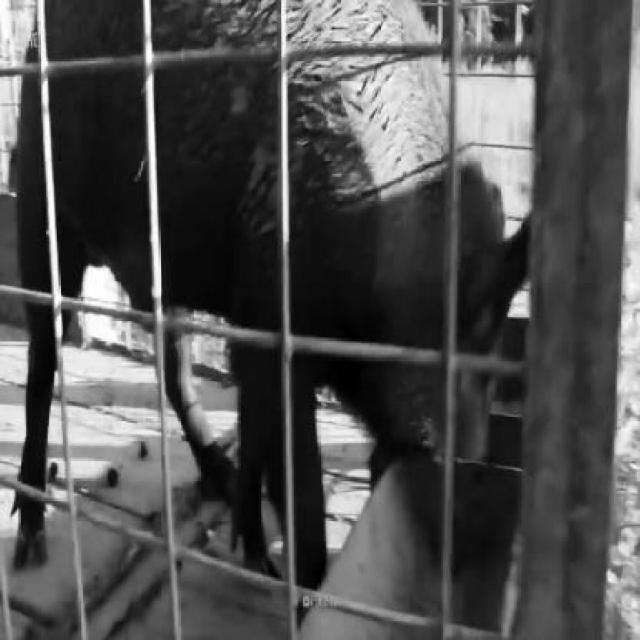pig: (12, 0, 534, 566)
